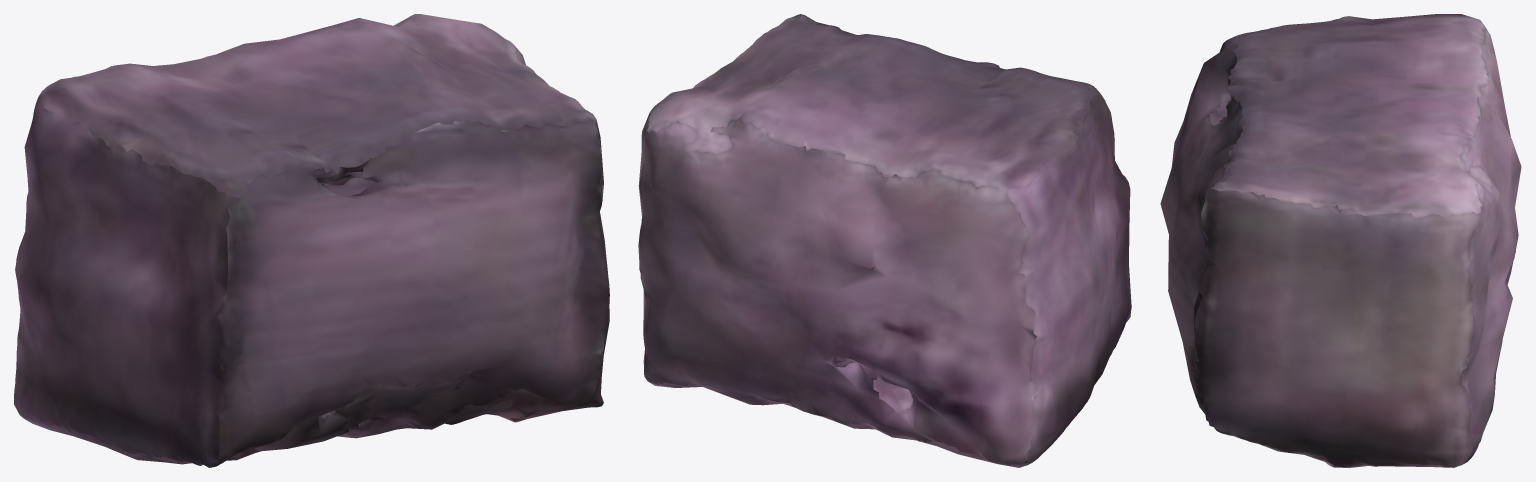
File: 3_television_set.glb
3 views of the same model, side by side, from view 1: azimuth 30°, elevation 25°; view 2: azimuth 150°, elevation 25°; view 3: azimuth 270°, elevation 25° (orthographic). The views are drawn at different scales.
Parts seen in each view (by area): view 1: 3_television_set; view 2: 3_television_set; view 3: 3_television_set.
Boxes of the visible parts, x1,y1,x2,y2 form: 3_television_set: (14,14,609,467); 3_television_set: (638,14,1131,467); 3_television_set: (1160,14,1521,467).
Bounding box in the file's own units: 0.5617 × 0.4048 × 0.4391.
1 material, 1 textured.
